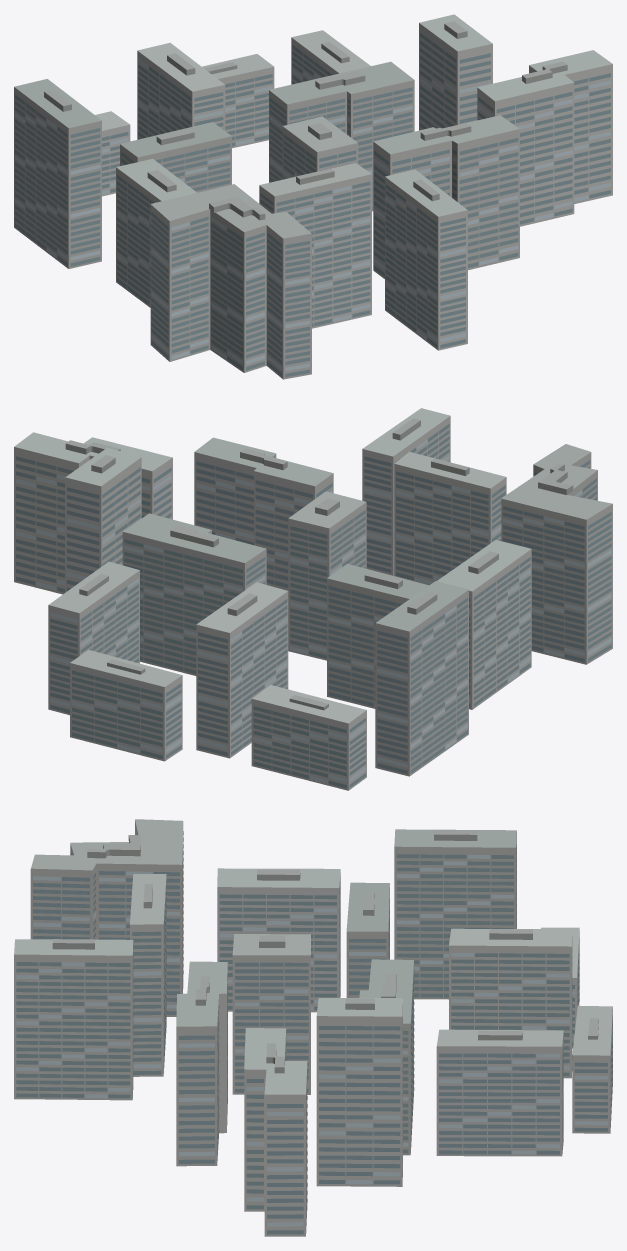
The model's file is apt-a13612002.glb.
3 renders of one model, top to bottom at view 1: azimuth 30°, elevation 25°; view 2: azimuth 150°, elevation 25°; view 3: azimuth 270°, elevation 25°, orthographic. The views are drawn at different scales.
Visible parts, largest first — view 1: apt-a13612002; view 2: apt-a13612002; view 3: apt-a13612002.
Part boxes in pixels (x1=…): apt-a13612002: x1=14, y1=14, x2=612, y2=379; apt-a13612002: x1=14, y1=408, x2=612, y2=790; apt-a13612002: x1=14, y1=819, x2=612, y2=1236.
Size of the model in its own units: 223 by 69 by 212.
